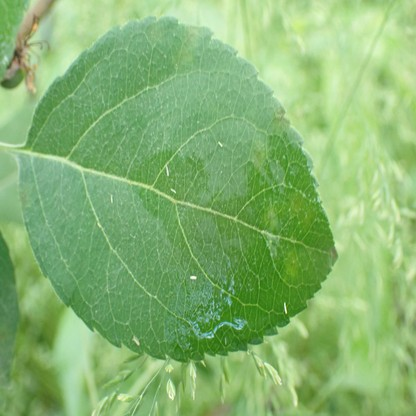scab: (176, 26, 201, 66), (271, 104, 290, 136), (251, 137, 266, 169), (261, 209, 278, 232), (290, 192, 306, 216), (285, 253, 299, 279), (20, 184, 31, 206)
